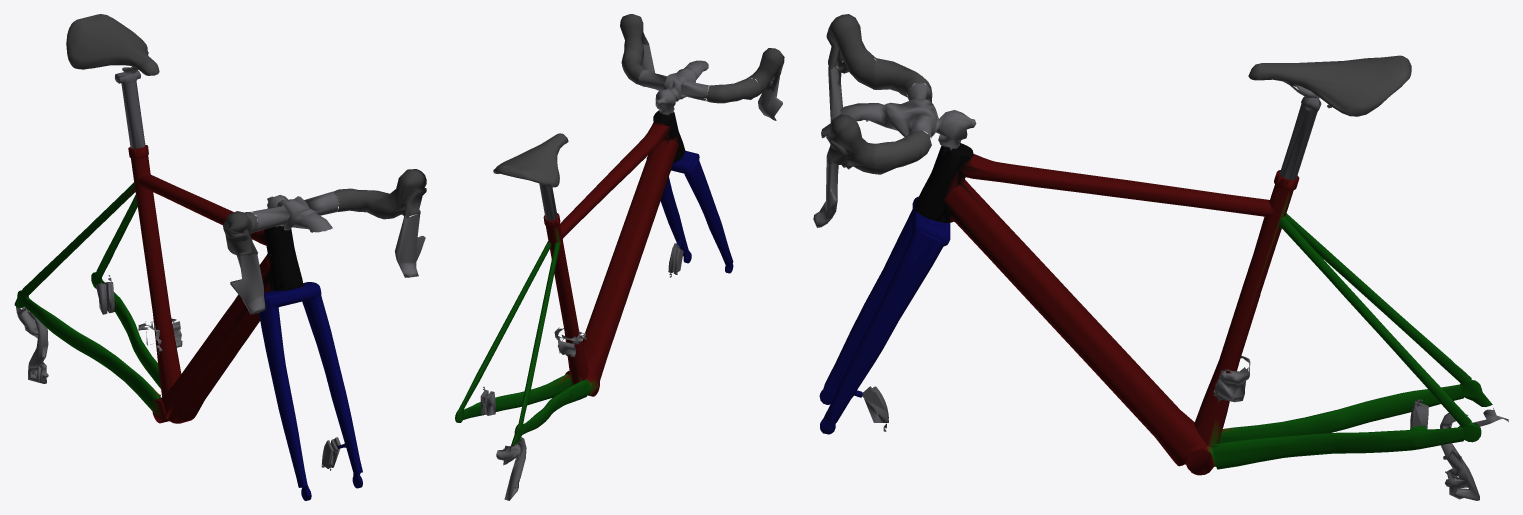
File: look785xs_lod2.glb
The picture shows the model from 3 angles, left to right: view 1: azimuth 30°, elevation 25°; view 2: azimuth 150°, elevation 25°; view 3: azimuth 270°, elevation 25°; orthographic projection. The views are drawn at different scales.
Visible parts, largest first — view 1: frame, cockpit, fork, saddle, seatpost, etrier_arriere; view 2: frame, cockpit, fork, saddle, seatpost; view 3: frame, cockpit, fork, saddle, seatpost.
Boxes of the visible parts, x1,y1,x2,y2 form: frame: (14,145,303,423); cockpit: (223,169,426,314); fork: (259,282,362,500); saddle: (66,14,159,75); seatpost: (115,70,145,148); etrier_arriere: (95,275,114,314); frame: (455,110,685,500); cockpit: (620,14,784,120); fork: (646,150,733,273); saddle: (493,133,568,187); seatpost: (539,183,557,220); frame: (914,143,1508,500); cockpit: (813,14,976,227); fork: (819,196,950,434); saddle: (1248,55,1411,116); seatpost: (1280,96,1321,179).
Size of the model in its own units: 0.4141 by 0.7525 by 1.05.
